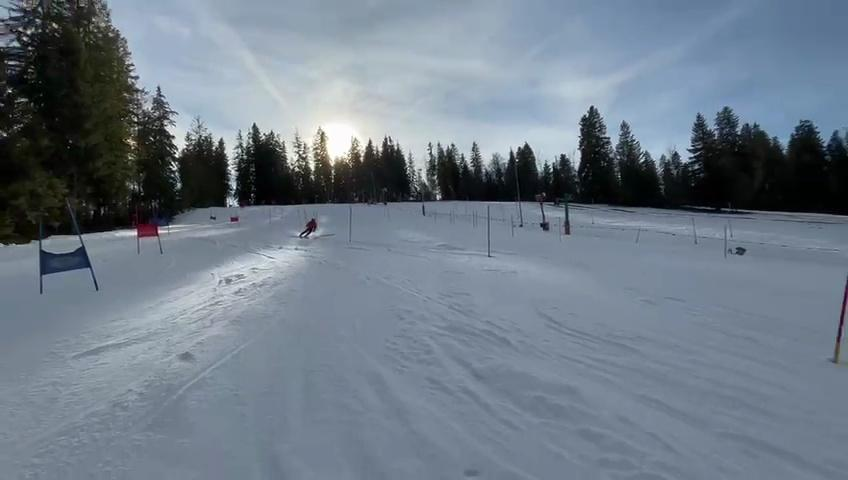gate: (67, 197, 104, 292), (31, 205, 54, 304), (482, 205, 496, 257), (131, 209, 145, 256), (152, 205, 164, 259), (346, 207, 355, 246)
